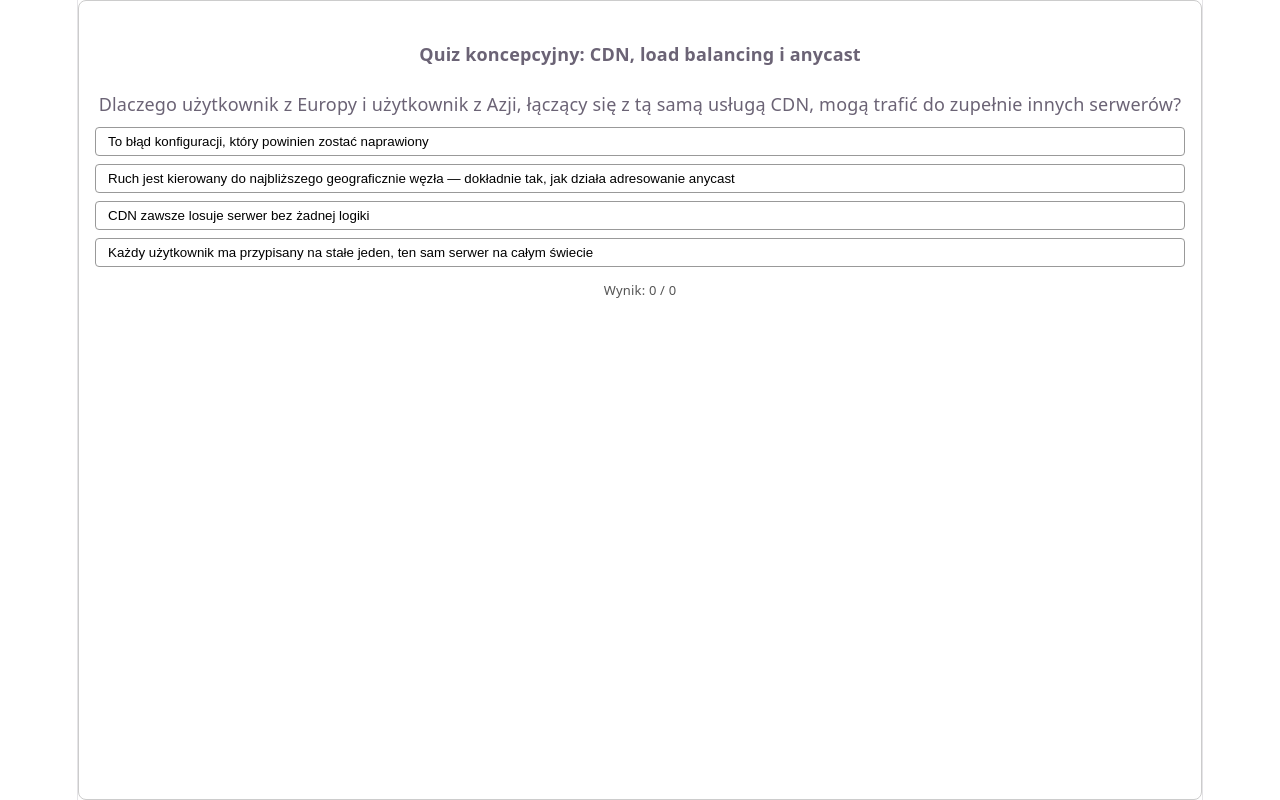
CdnAndAnycastQuiz › disables all options after answering and advances to the next question
Click the button "To błąd konfiguracji, który powinien zostać naprawiony" at (268, 142), box left=95, top=127, right=1185, bottom=156
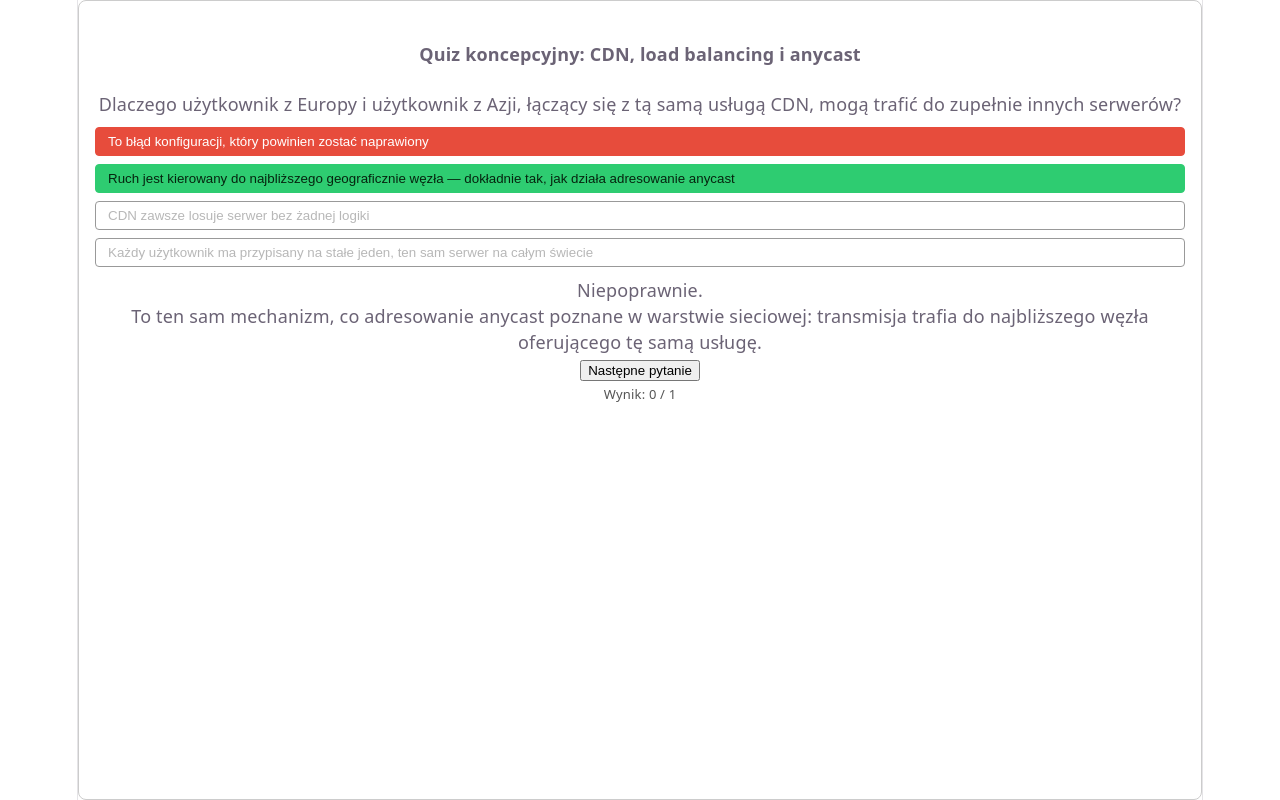
Now the button "To błąd konfiguracji, który powinien zostać naprawiony" is disabled, box left=95, top=127, right=1185, bottom=156
Click the button "Następne pytanie" at (640, 371), box left=580, top=360, right=700, bottom=381
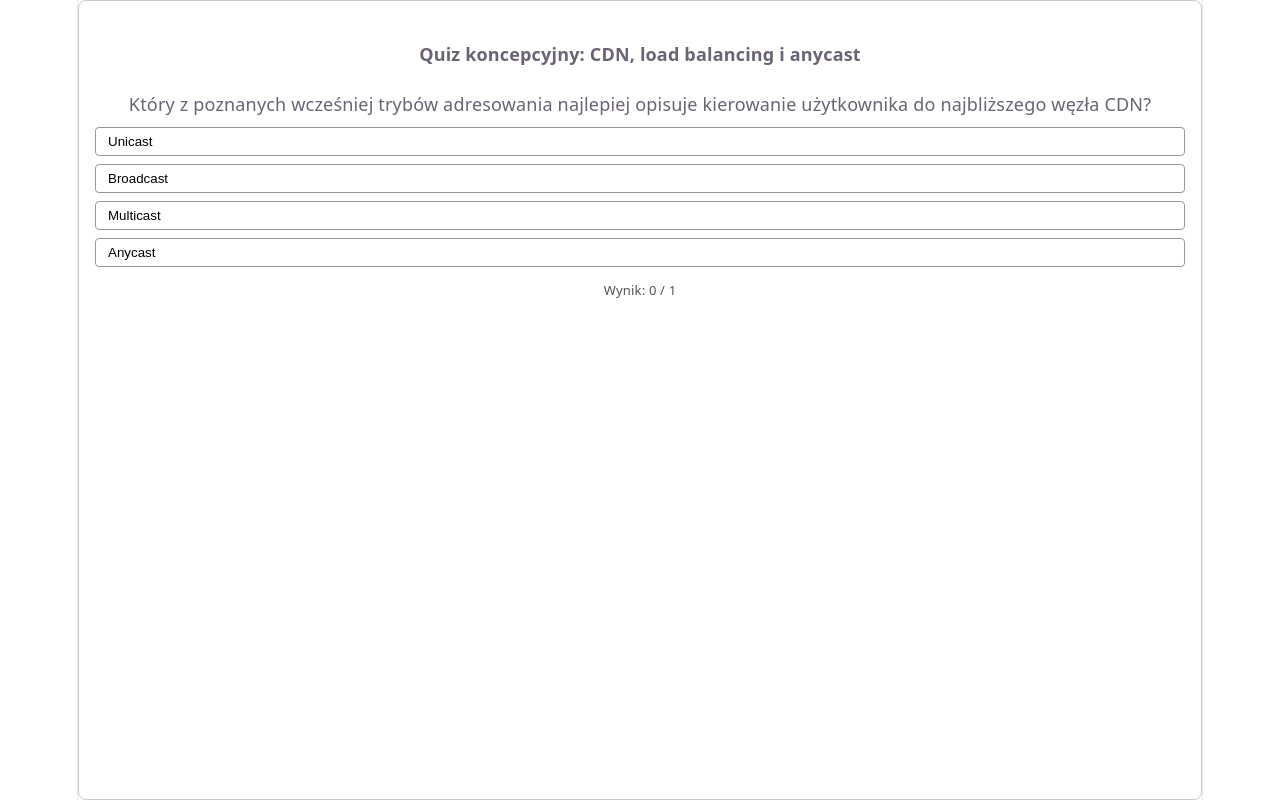
Now the text "Który z poznanych wcześniej trybów adresowania najlepiej opisuje kierowanie użytkownika do najbliższego węzła CDN?" is shown, box left=129, top=92, right=1151, bottom=116
